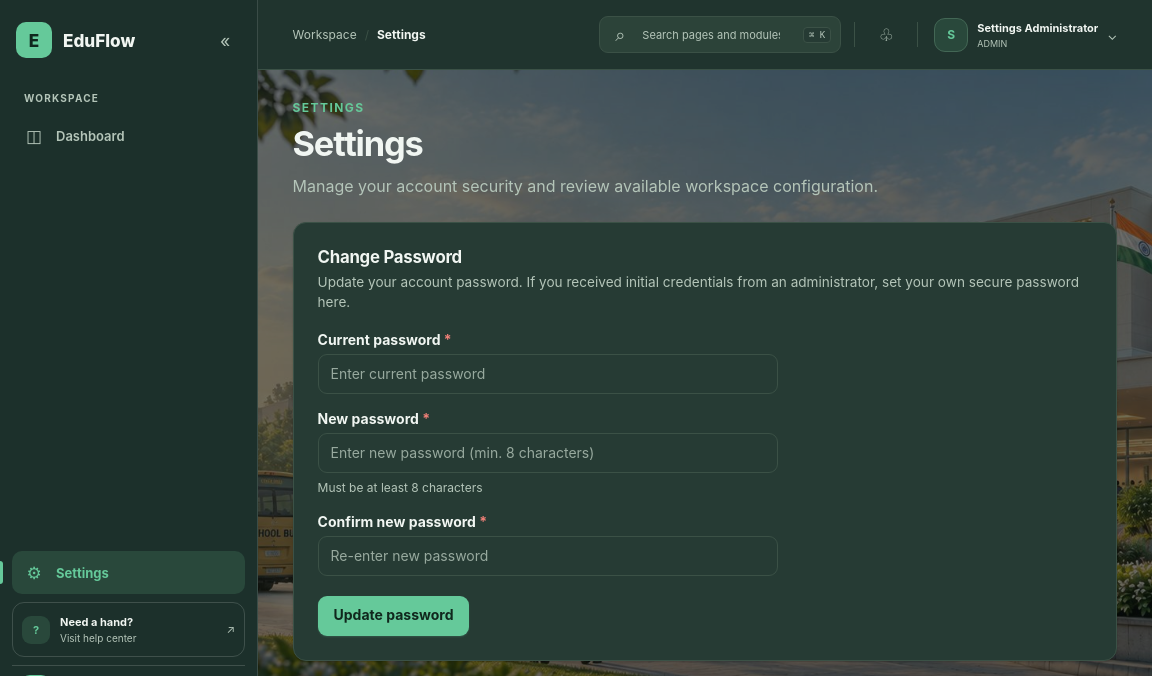
it: Settings workspace › submits a password change successfully
Expected: the heading "Change Password" is shown, [318,247,462,267]
In the password field with placeholder "Enter current password": {"x": 548, "y": 374} [318,354,778,394], type "OldPass@123"
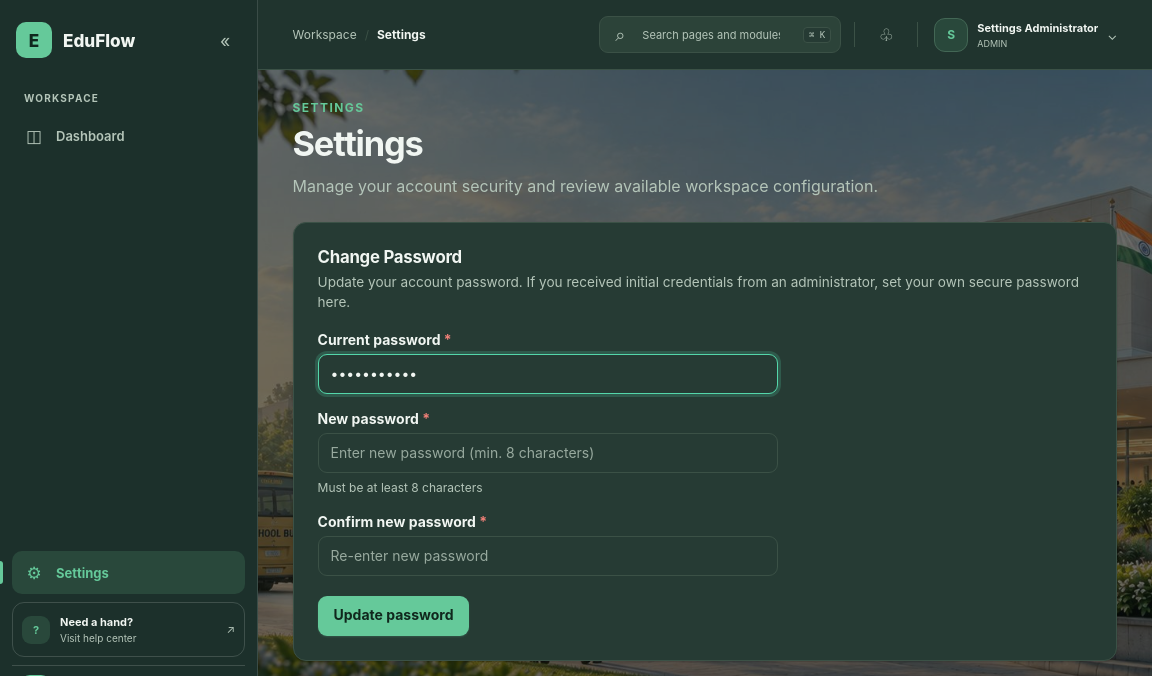
In the password field with placeholder "Enter new password (min. 8 characters)": {"x": 548, "y": 453} [318,433,778,473], type "NewSecurePass@123"
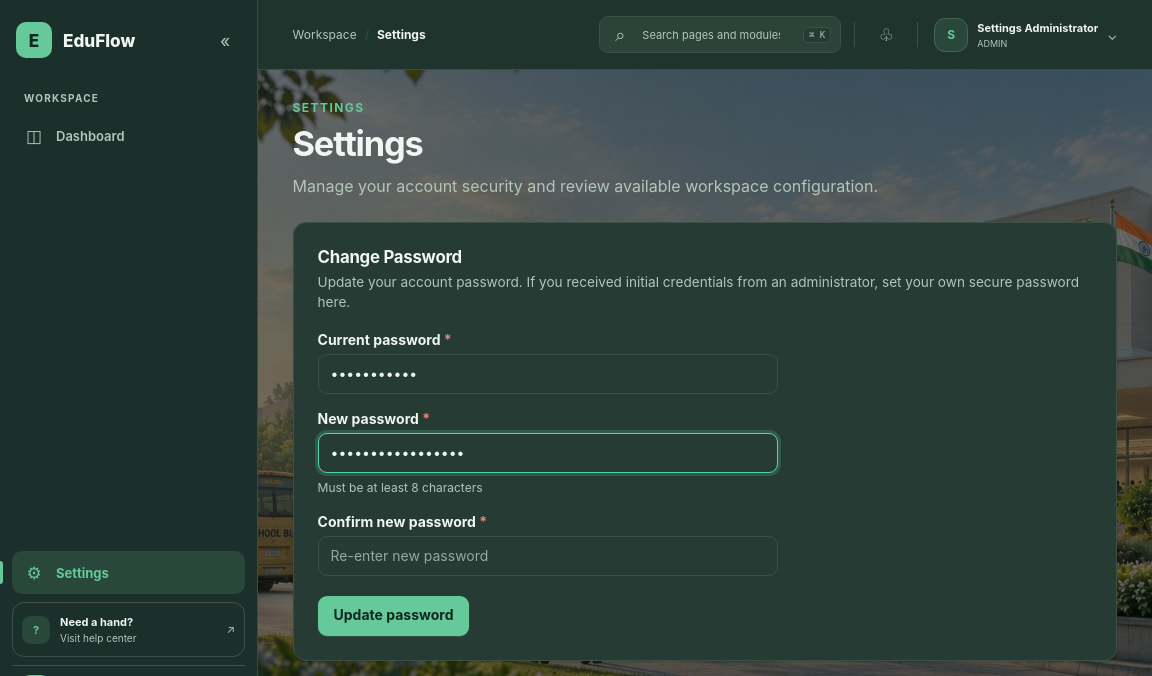
In the password field with placeholder "Re-enter new password": {"x": 548, "y": 556} [318,536,778,576], type "NewSecurePass@123"
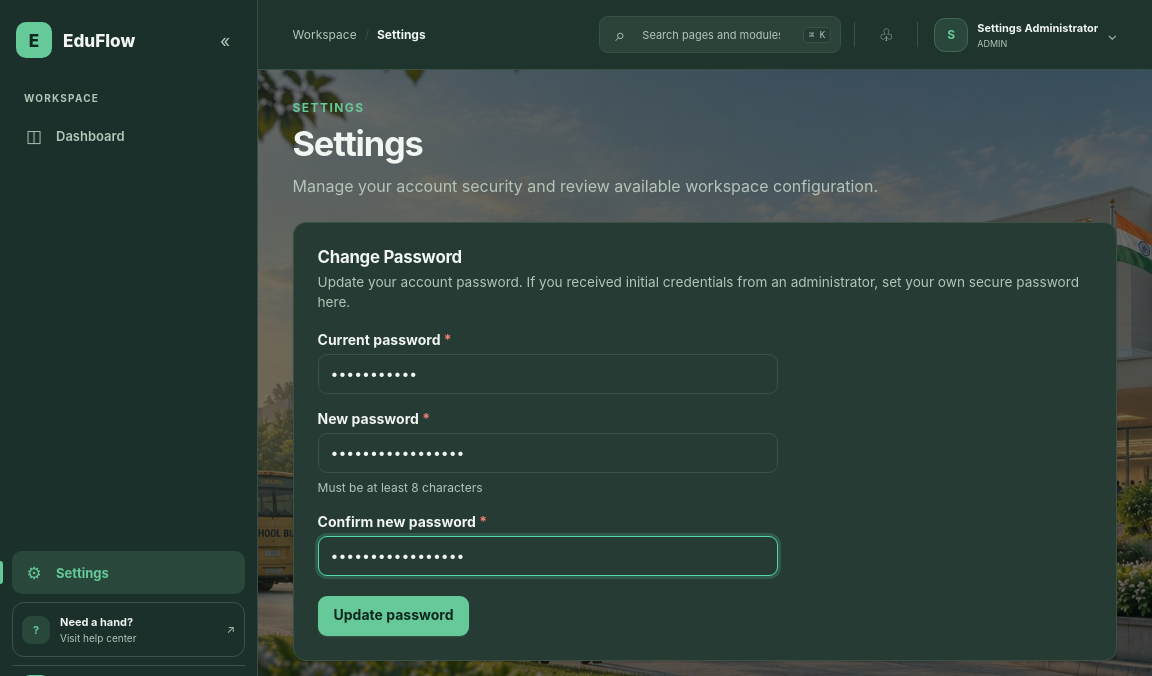
Click the button "Update password": {"x": 393, "y": 616} [318,596,469,636]
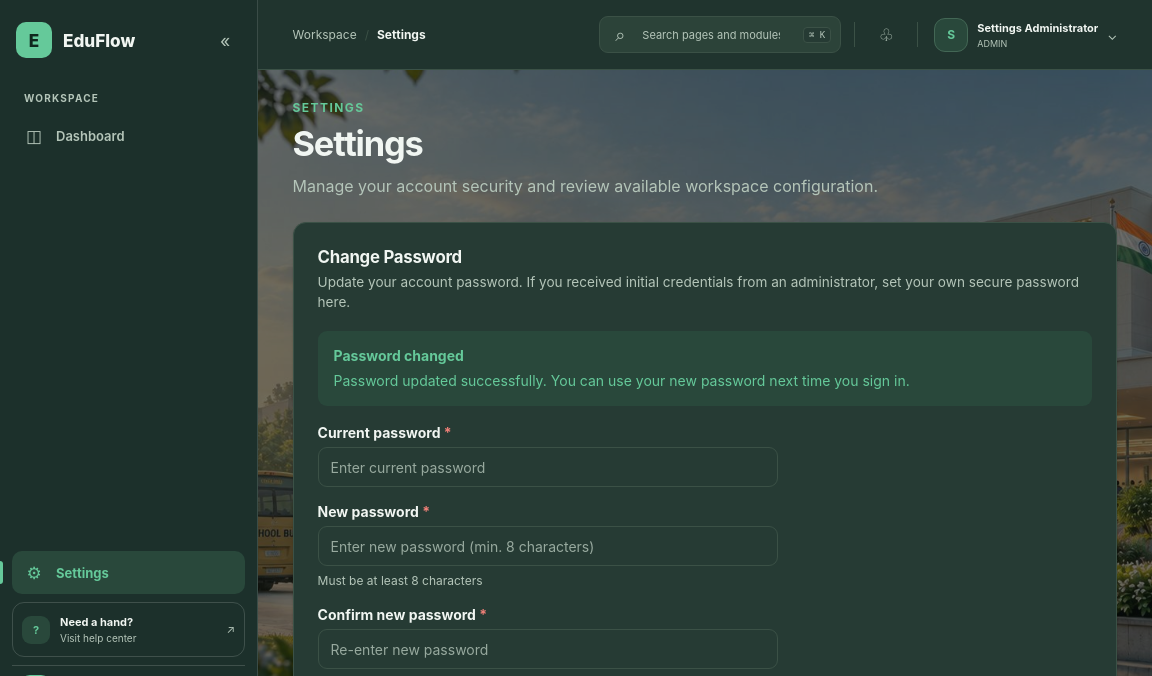
Now the text "Password updated successfully. You can use your new password next time you sign in." is shown, box [334,372,910,389]
